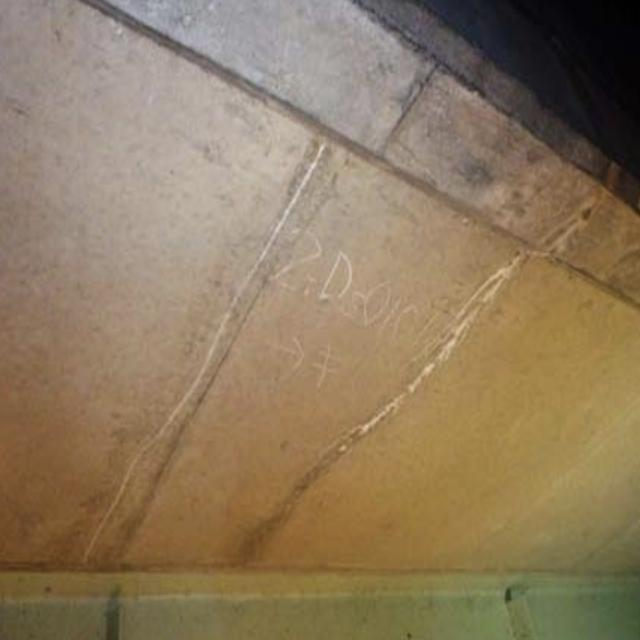freelime: (302, 187, 602, 472)
